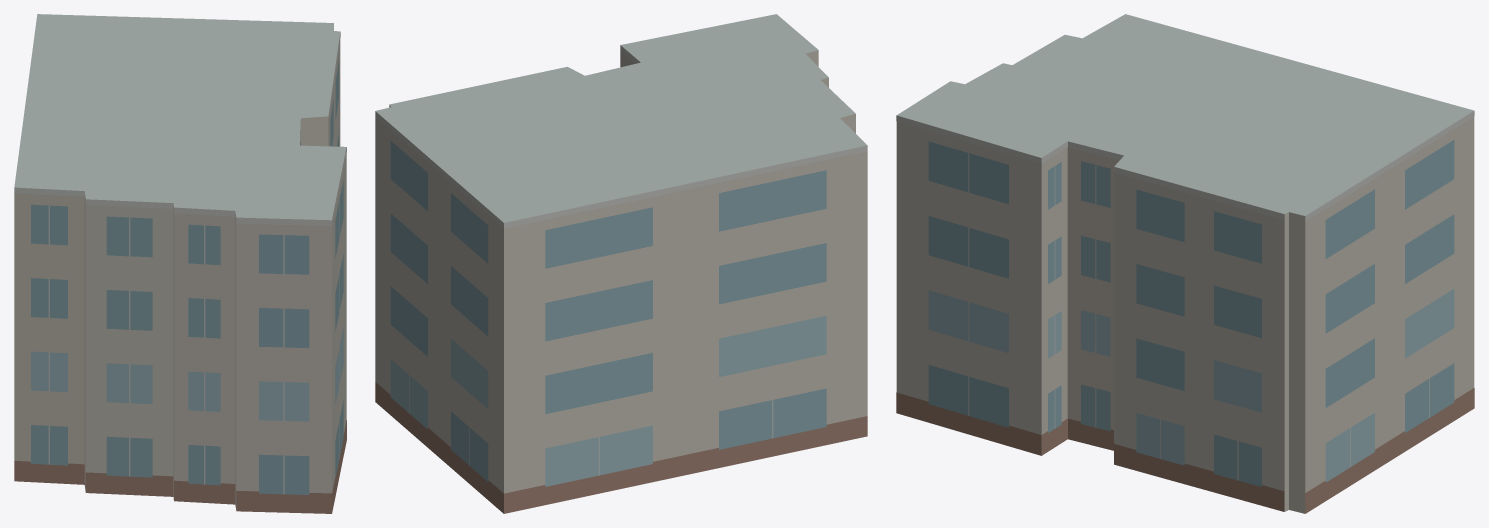
The model's file is survey-upis-32670991.glb.
3 views of the same model, side by side, from view 1: azimuth 30°, elevation 25°; view 2: azimuth 150°, elevation 25°; view 3: azimuth 270°, elevation 25° (orthographic). The views are drawn at different scales.
Parts seen in each view (by area): view 1: survey-upis-32670991.tmp; view 2: survey-upis-32670991.tmp; view 3: survey-upis-32670991.tmp.
Boxes of the visible parts, left/top/right/bottom form: survey-upis-32670991.tmp: left=14, top=14, right=346, bottom=513; survey-upis-32670991.tmp: left=375, top=14, right=867, bottom=513; survey-upis-32670991.tmp: left=896, top=14, right=1474, bottom=513.
Size of the model in its own units: 18.05 by 12.4 by 21.81.
